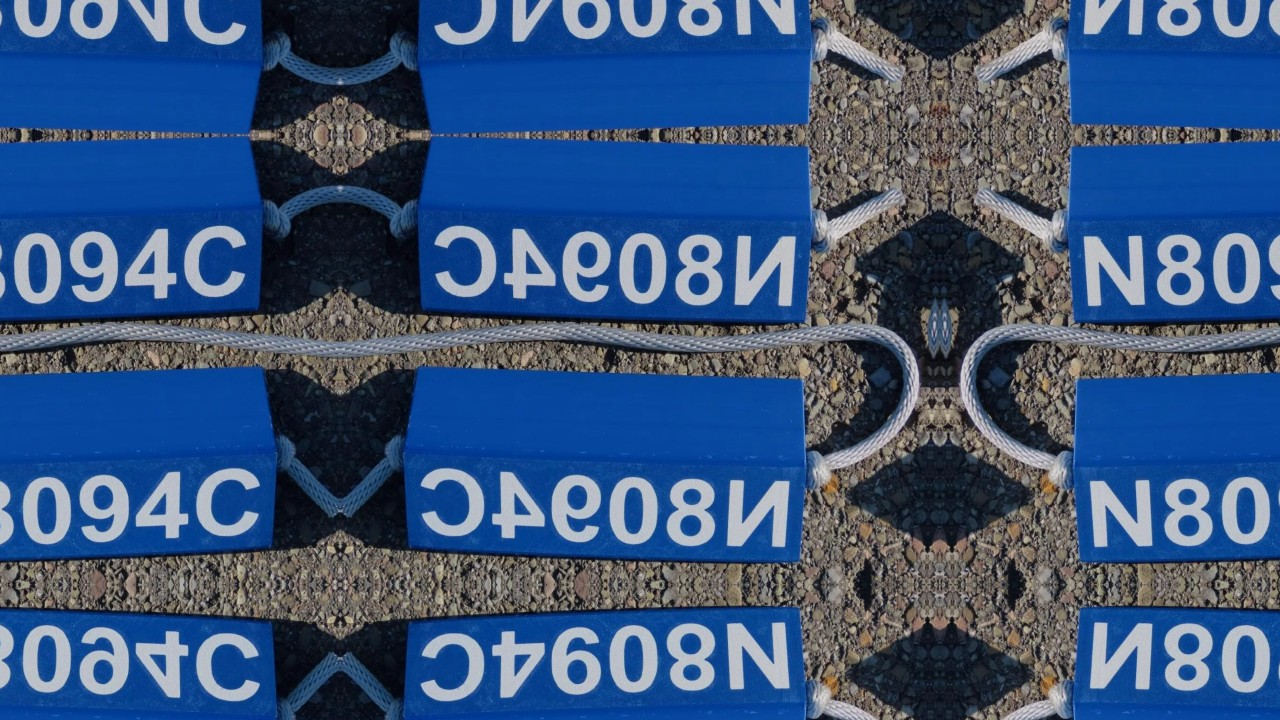chock: (401, 360, 811, 566), (417, 135, 817, 327), (0, 360, 279, 566), (417, 0, 817, 135), (0, 135, 263, 327), (401, 604, 811, 720), (1069, 360, 1280, 566), (1063, 135, 1280, 327), (0, 0, 263, 135), (0, 604, 279, 720), (1063, 0, 1280, 135), (1069, 604, 1280, 720)
